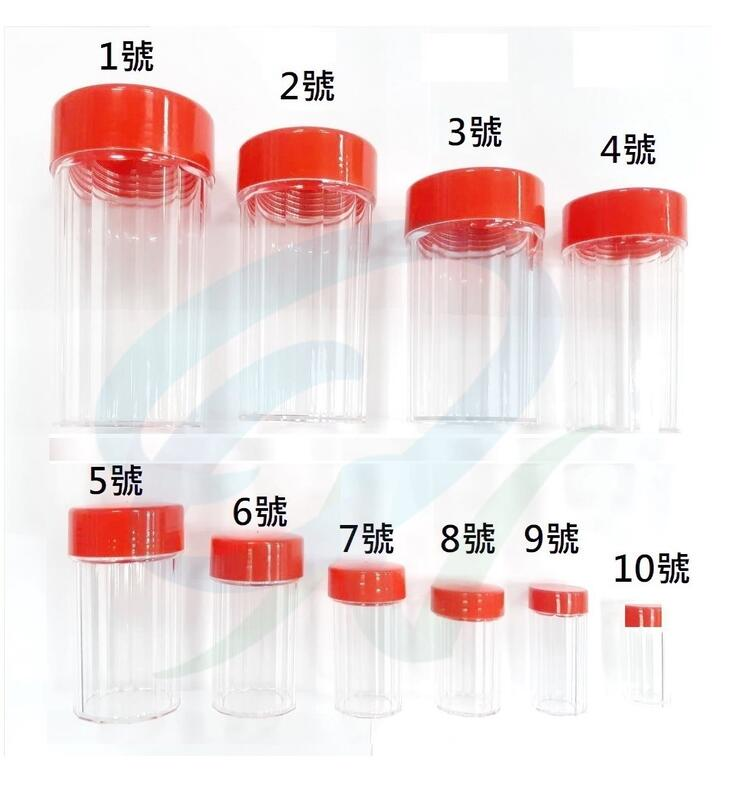medicinejar: (48, 84, 218, 437), (226, 127, 390, 423), (408, 169, 553, 429), (558, 187, 689, 428), (66, 499, 193, 729), (209, 532, 306, 717), (330, 560, 410, 717), (437, 576, 505, 725), (529, 584, 597, 727), (621, 603, 668, 704)
